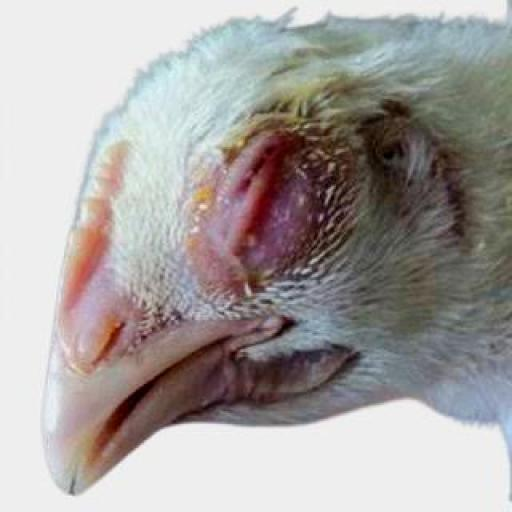disease: (197, 99, 322, 256)
